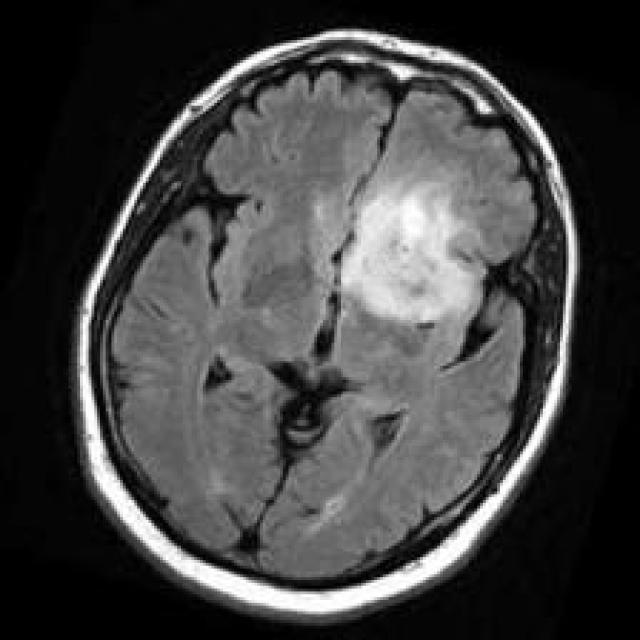Tumor: (337, 189, 497, 337)
